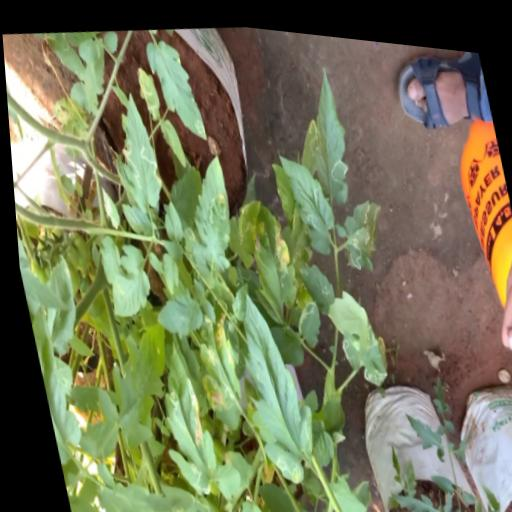Leaf_Miner: (219, 278, 320, 484), (139, 332, 216, 497), (293, 53, 357, 200), (232, 192, 301, 323), (105, 84, 164, 213), (182, 304, 242, 429), (276, 139, 338, 253), (142, 31, 205, 141), (183, 182, 237, 271), (332, 187, 390, 268), (94, 237, 152, 318), (331, 302, 388, 384), (215, 188, 271, 267), (292, 252, 335, 312), (288, 108, 325, 172), (286, 289, 320, 344), (134, 61, 160, 119)
